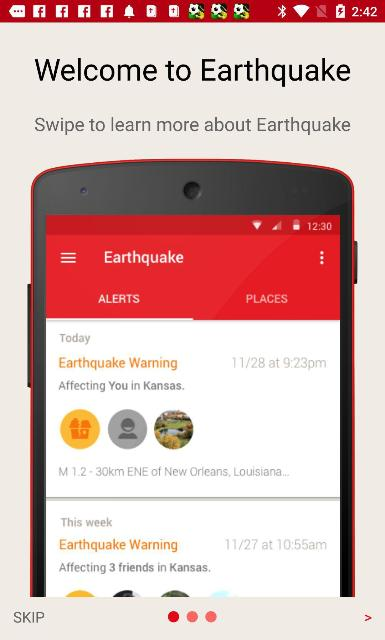Icon: (364, 614, 372, 622)
Image: (26, 158, 358, 596)
PageIndicator: (167, 610, 217, 622)
Text: (34, 58, 350, 86), (35, 116, 351, 136), (14, 610, 44, 624)
UpperTaskBar: (0, 0, 384, 22)
